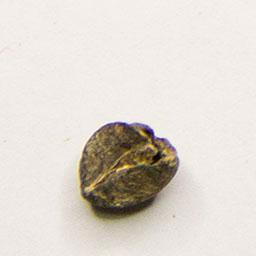defect: (71, 114, 185, 215)
